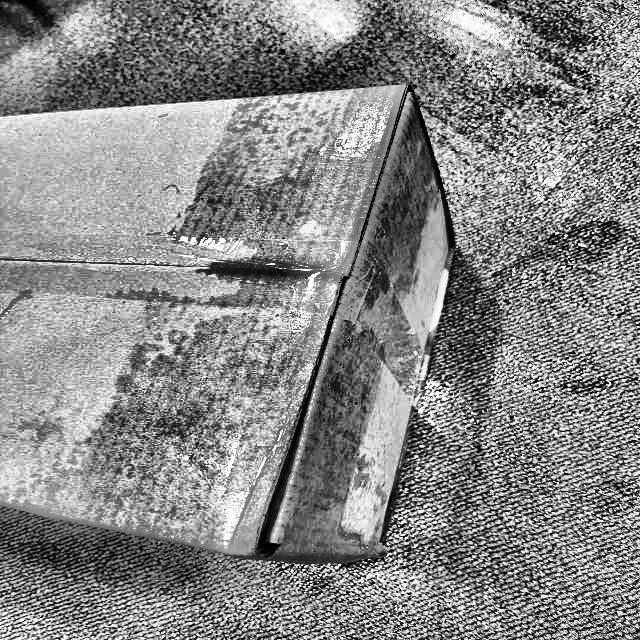box: (0, 82, 484, 574)
wet: (64, 311, 430, 558), (178, 84, 472, 281)
